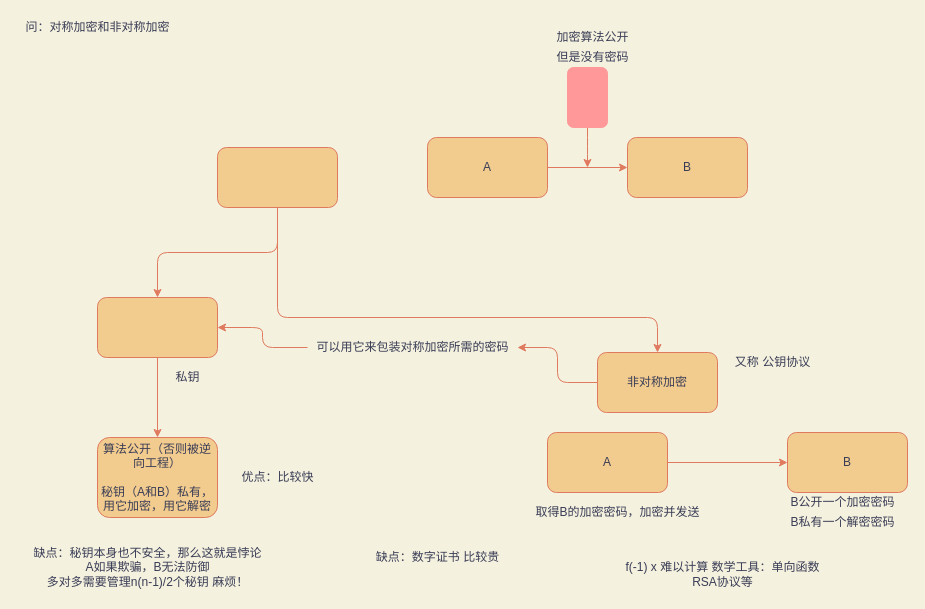
Image size: 925x609. Some labels were removed from this diagram. The shapes that lost their labels are listed below. From the top down, each one's box as (x1, y1, x2, y2) in pixels, then its label:
(566, 66, 608, 128): 侵入者O
(216, 146, 338, 208): 密码学
(96, 296, 218, 358): 对称加密
